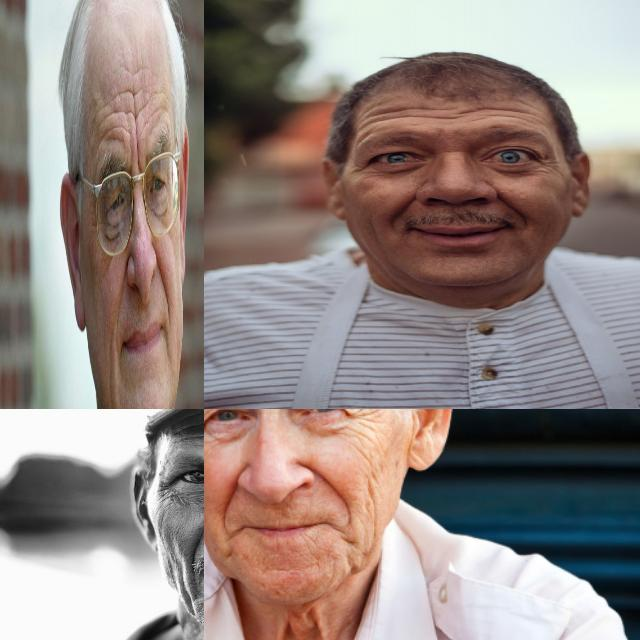chin: (266, 562, 314, 576)
crows_feet: (535, 154, 564, 177), (157, 478, 181, 502), (342, 409, 372, 428), (345, 159, 373, 176)
forehead: (484, 100, 539, 124), (364, 100, 421, 121), (104, 96, 131, 140), (432, 101, 479, 125), (132, 85, 152, 128), (181, 414, 203, 440)
frown_line: (134, 134, 141, 171), (437, 146, 464, 154)
gummy_smile: (312, 464, 351, 504), (222, 472, 242, 520), (185, 523, 204, 572), (387, 193, 420, 220), (495, 194, 530, 219), (155, 249, 169, 303), (116, 266, 126, 320)
masseter: (360, 476, 380, 520), (176, 579, 197, 611), (106, 333, 115, 401)
sad_smile: (338, 528, 359, 556)
